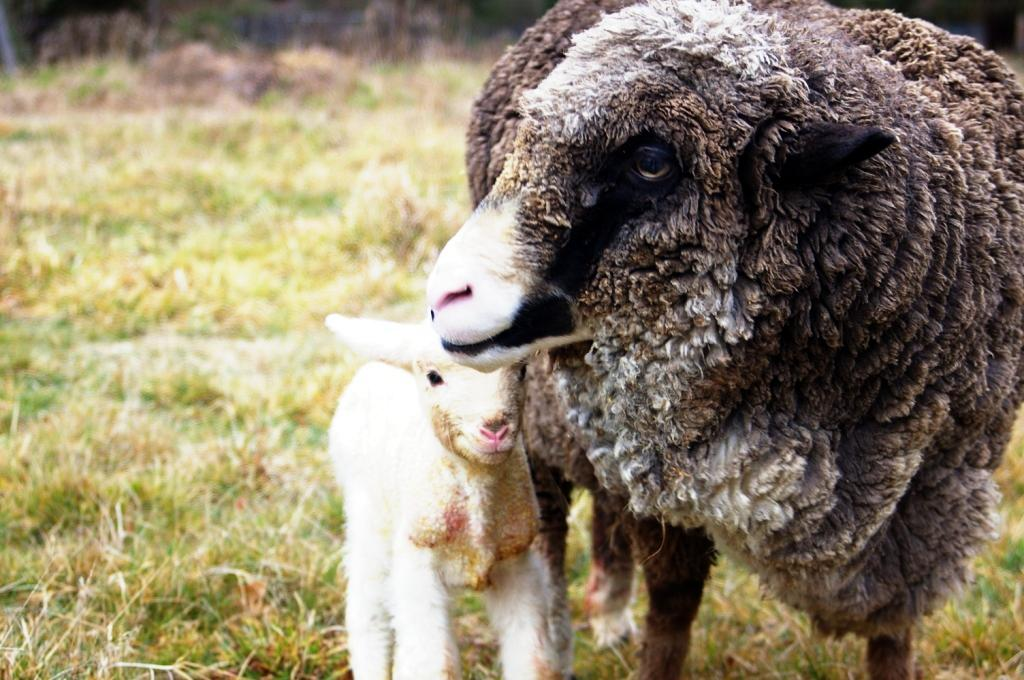Sheep: (430, 0, 1023, 679), (327, 308, 594, 679)
